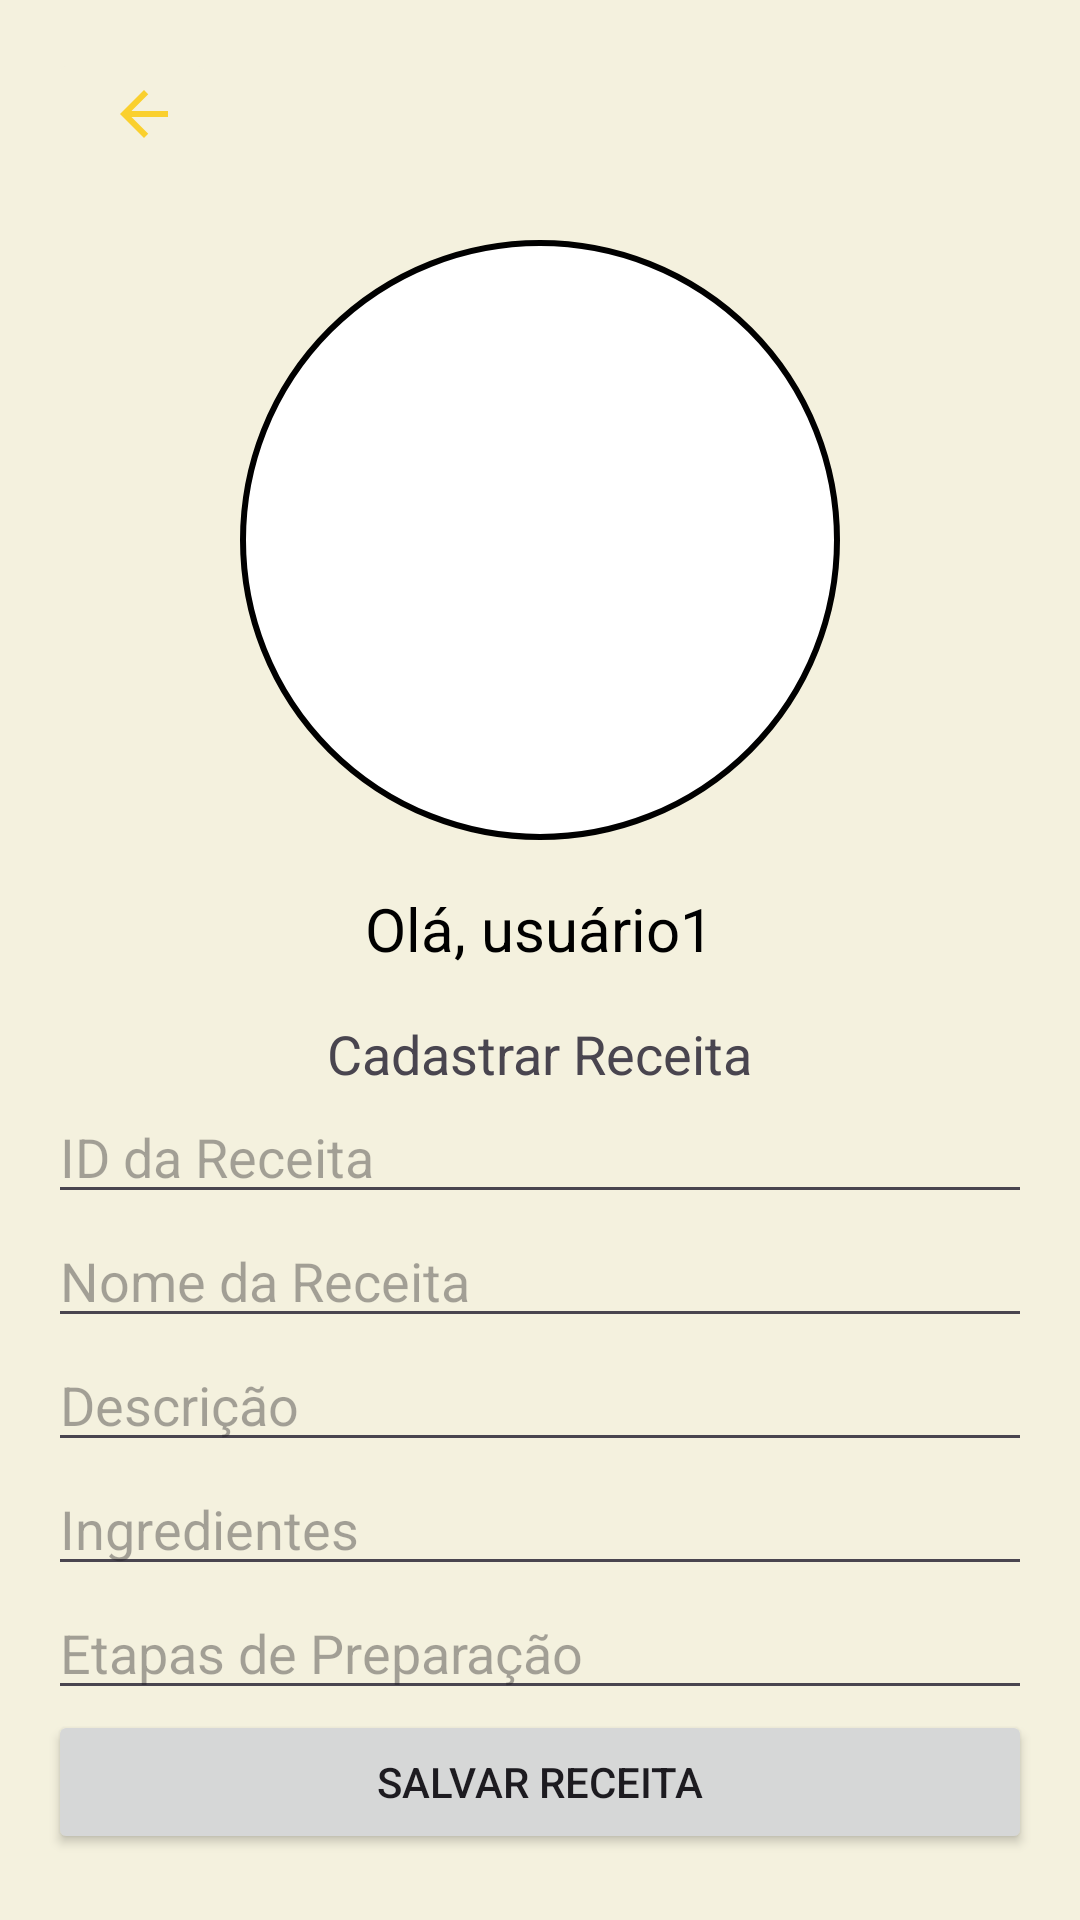

Icon bounding boxes for this 1080px x 1920px phone screenshot, format (x1, y1, x2, y2):
Voltar: (120, 90, 168, 138)
